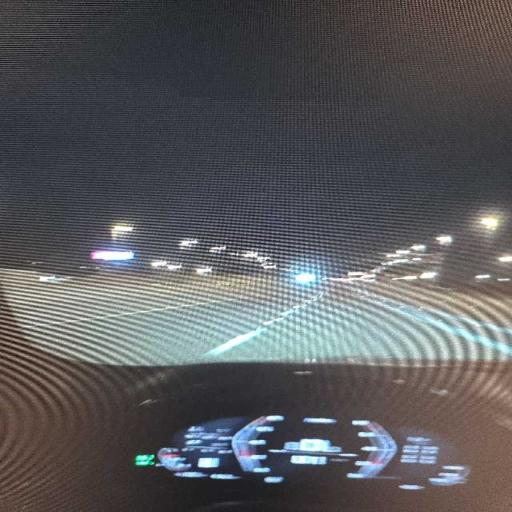lane: (0, 273, 300, 364), (216, 286, 511, 361), (24, 299, 235, 329)
